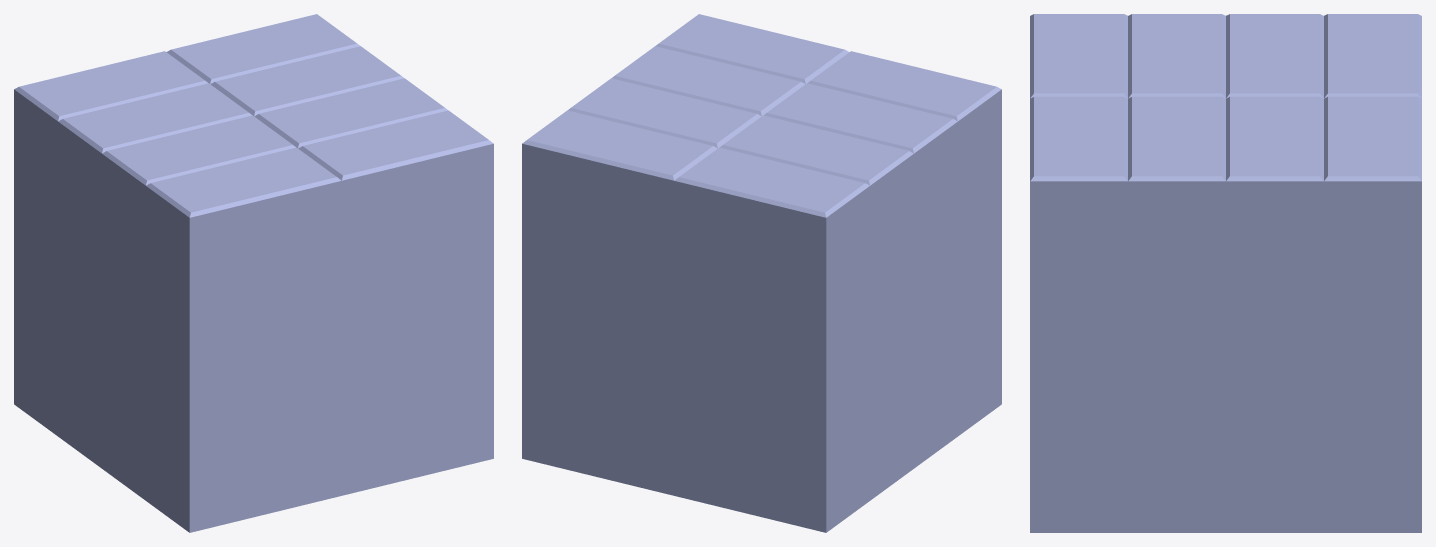
File: Floor001.fbx
3 renders of one model, left to right at view 1: azimuth 30°, elevation 25°; view 2: azimuth 150°, elevation 25°; view 3: azimuth 270°, elevation 25°, orthographic. The views are drawn at different scales.
Visible parts, largest first — view 1: Cube; view 2: Cube; view 3: Cube.
Boxes of the visible parts, <box> form: Cube: <box>14,14,493,532</box>; Cube: <box>522,14,1001,532</box>; Cube: <box>1030,14,1421,532</box>.
Size of the model in its own units: 100 by 100 by 100.
